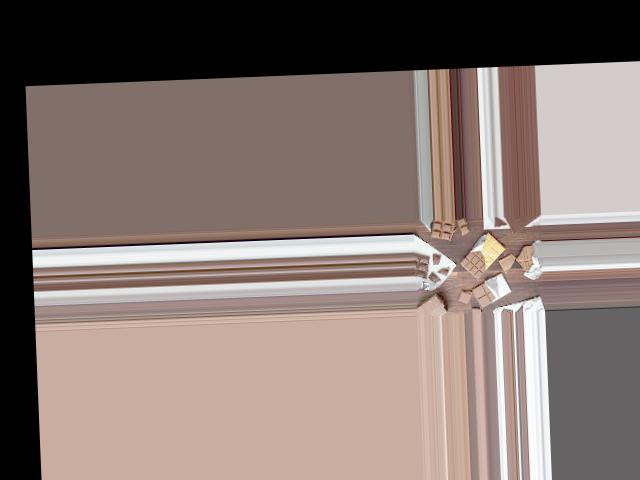chocolate: (471, 272, 509, 311)
